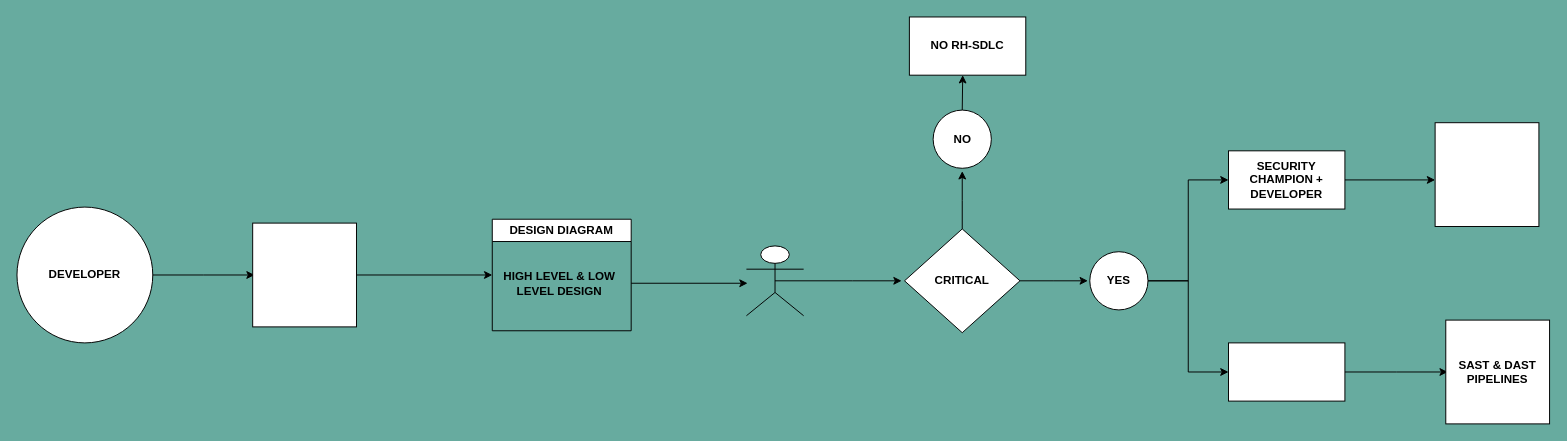
The diagram is 1567 pixels wide and 441 high, and some of its shapes have lost their labels. Each missing label, with the centre of its shape:
"FEATURE" belongs at point 304,274.
"QE TEAM" belongs at point 1286,371.
"SAR & THREAT MODELING" belongs at point 1486,174.
"SECURITY CHAMPION" belongs at point 774,280.
